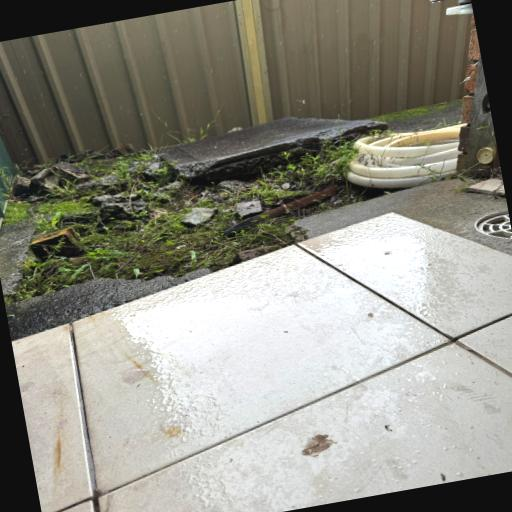gap: (5, 267, 211, 340), (285, 179, 463, 241), (229, 245, 279, 265)
